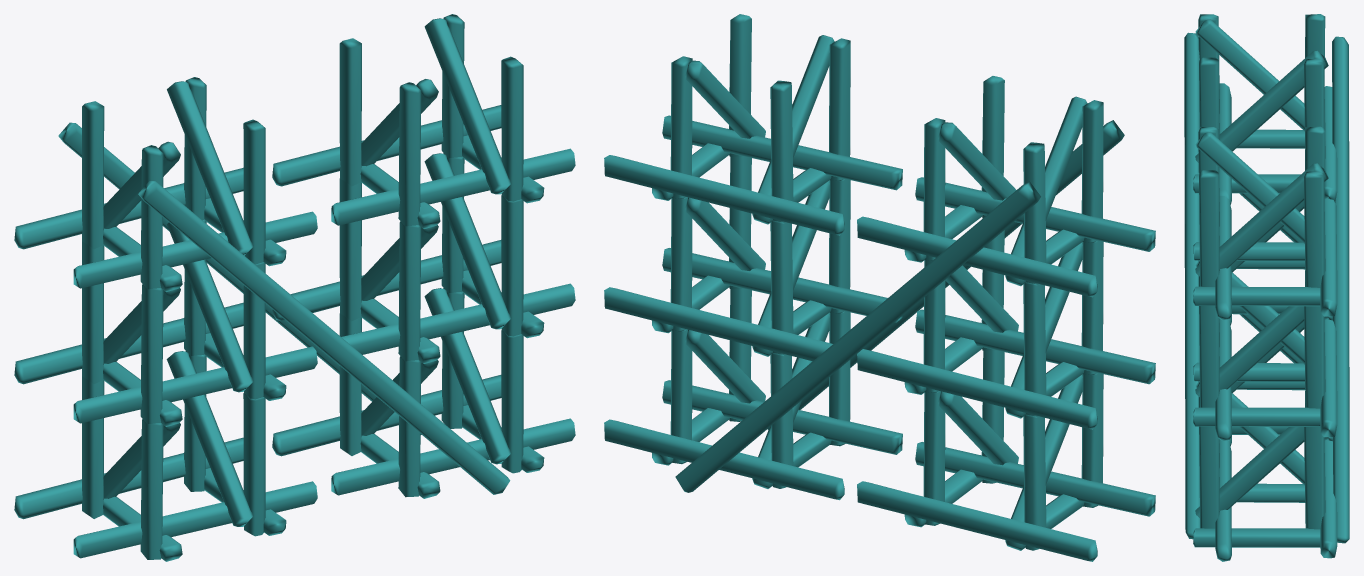
File: SM_Construction_Kit_Scaffolding.fbx
The picture shows the model from 3 angles, left to right: view 1: azimuth 30°, elevation 25°; view 2: azimuth 150°, elevation 25°; view 3: azimuth 270°, elevation 25°; orthographic projection. The views are drawn at different scales.
Visible parts, largest first — view 1: SM_Construction_Kit_Scaffolding; view 2: SM_Construction_Kit_Scaffolding; view 3: SM_Construction_Kit_Scaffolding.
Boxes of the visible parts, left/top/right/bottom form: SM_Construction_Kit_Scaffolding: left=14, top=14, right=575, bottom=561; SM_Construction_Kit_Scaffolding: left=604, top=14, right=1155, bottom=561; SM_Construction_Kit_Scaffolding: left=1184, top=14, right=1349, bottom=561.
Size of the model in its own units: 386 by 316 by 124.
